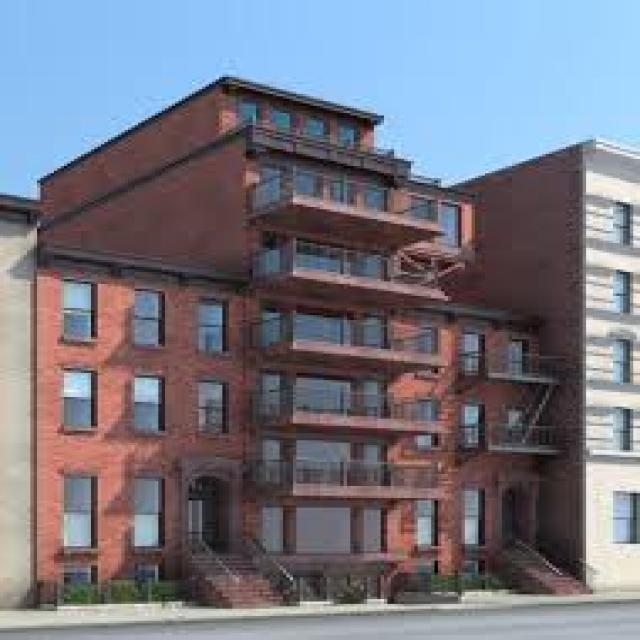window: (121, 469, 172, 551), (54, 472, 98, 544), (128, 284, 172, 349), (57, 282, 98, 344), (188, 378, 232, 433), (61, 373, 94, 428), (192, 303, 226, 351), (131, 376, 162, 428), (613, 332, 637, 392), (610, 406, 633, 466), (613, 493, 637, 546), (613, 267, 633, 322), (610, 202, 633, 248), (462, 491, 478, 544), (462, 397, 478, 438), (465, 337, 482, 373)
